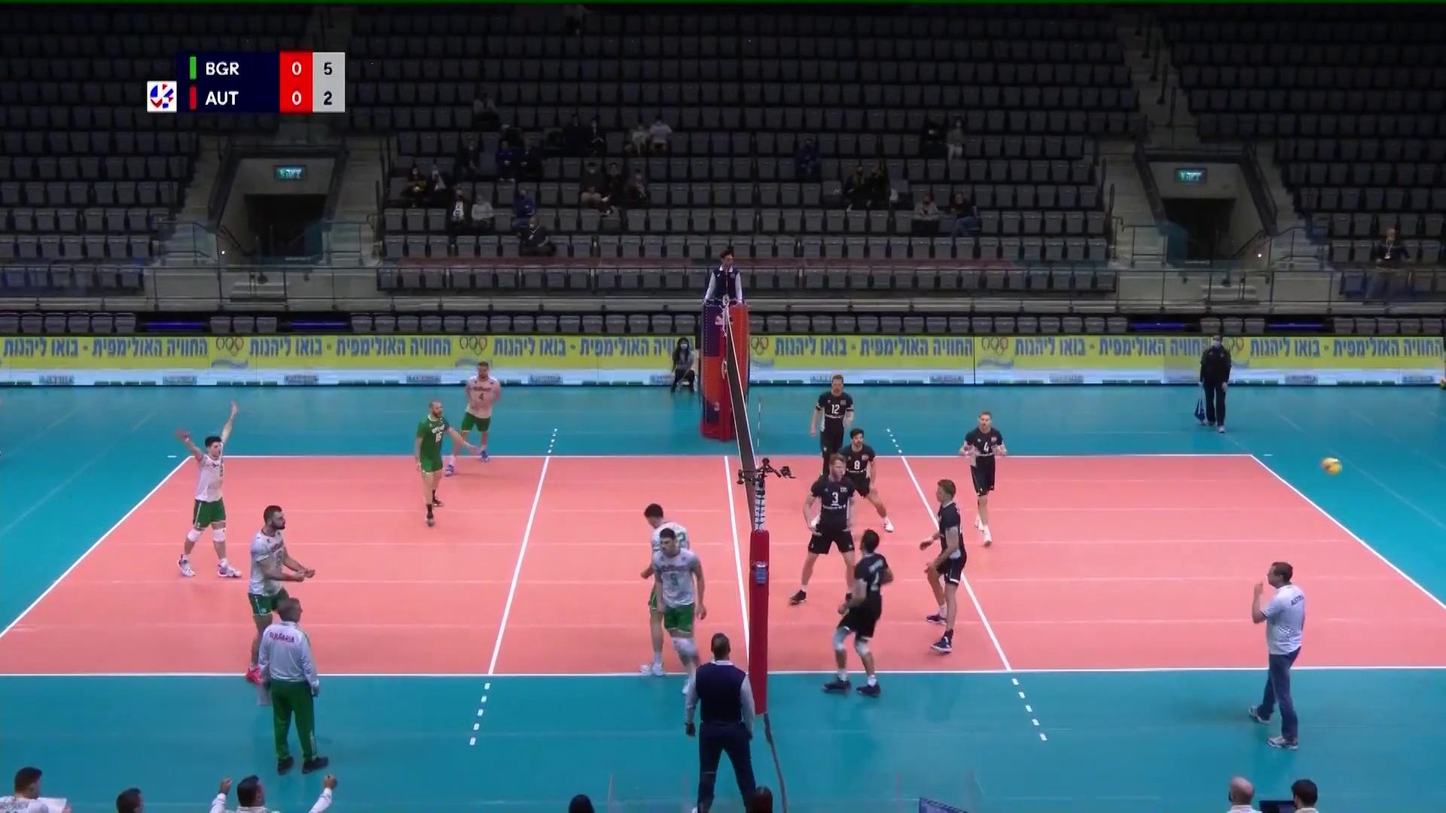ball: (1320, 456, 1343, 475)
